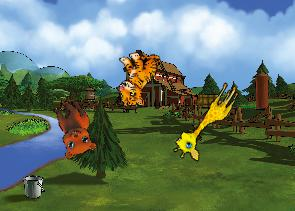bear: (39, 94, 104, 164)
giraffe: (169, 74, 242, 166)
tiger: (114, 49, 164, 107)
